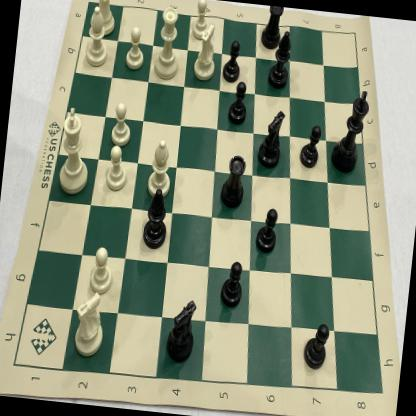bishop: (138, 185, 174, 255), (80, 3, 116, 72), (142, 134, 178, 202), (266, 25, 295, 94)
king: (51, 102, 99, 201), (326, 82, 374, 178)
knight: (67, 288, 110, 362), (162, 294, 200, 366), (256, 104, 288, 174), (189, 19, 222, 84)
pawn: (216, 253, 248, 311), (300, 318, 332, 375), (252, 200, 281, 260), (101, 140, 132, 196), (85, 241, 116, 296), (105, 96, 136, 150), (296, 122, 326, 174), (224, 78, 252, 128), (121, 22, 150, 70), (185, 0, 216, 43), (218, 36, 245, 84)
queen: (148, 4, 186, 85)
rook: (216, 148, 250, 212), (86, 0, 124, 41), (256, 5, 285, 52)
